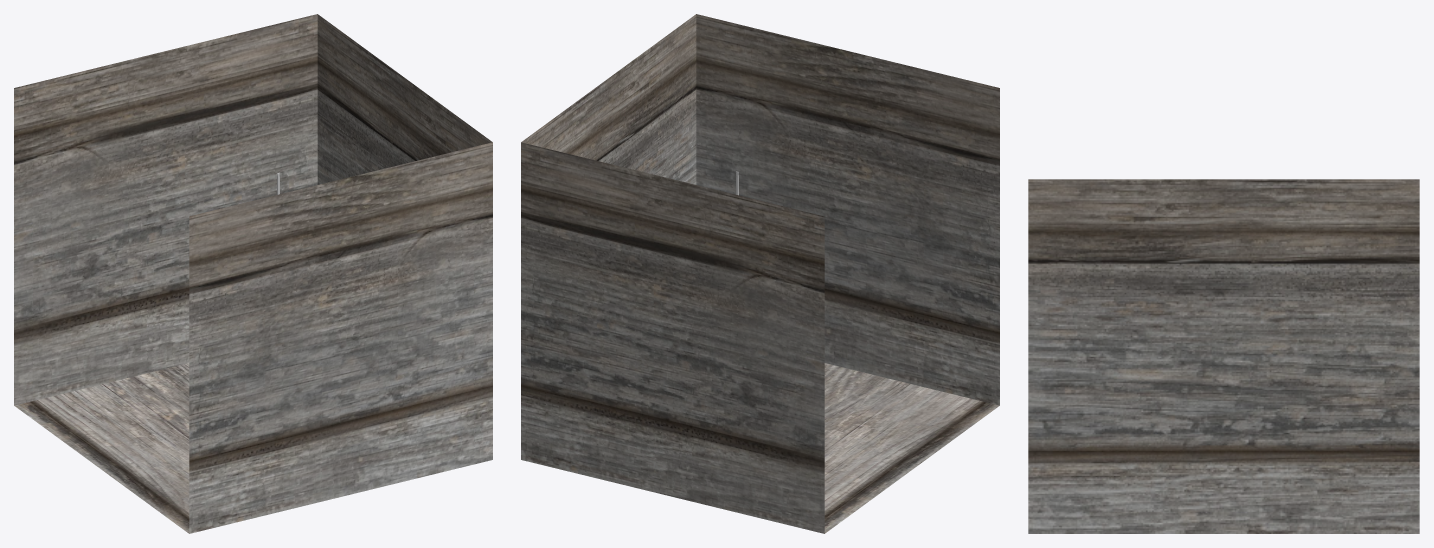
File: Long-Sword.fbx
3 renders of one model, left to right at view 1: azimuth 30°, elevation 25°; view 2: azimuth 150°, elevation 25°; view 3: azimuth 270°, elevation 25°, orthographic. The views are drawn at different scales.
Visible parts, largest first — view 1: Cube.001; view 2: Cube.001; view 3: Cube.001.
Part boxes in pixels (x1,y1,x2,y2): Cube.001: (14,14,492,533); Cube.001: (521,14,999,533); Cube.001: (1028,179,1419,533).
Bounding box in the file's own units: 200 × 200 × 200.
5 materials, 2 textured.
